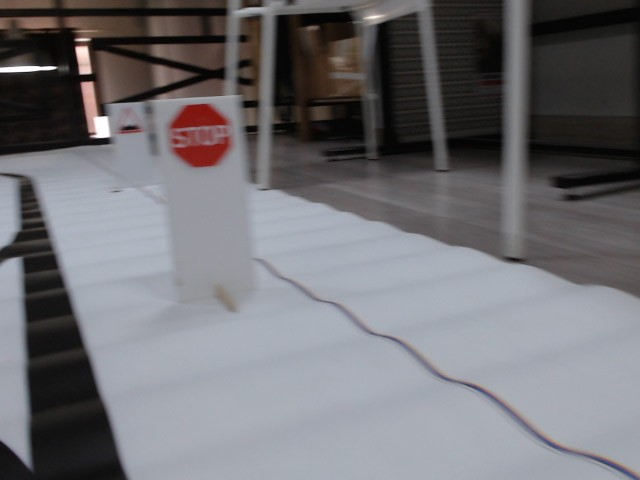Stop: (169, 105, 233, 167)
